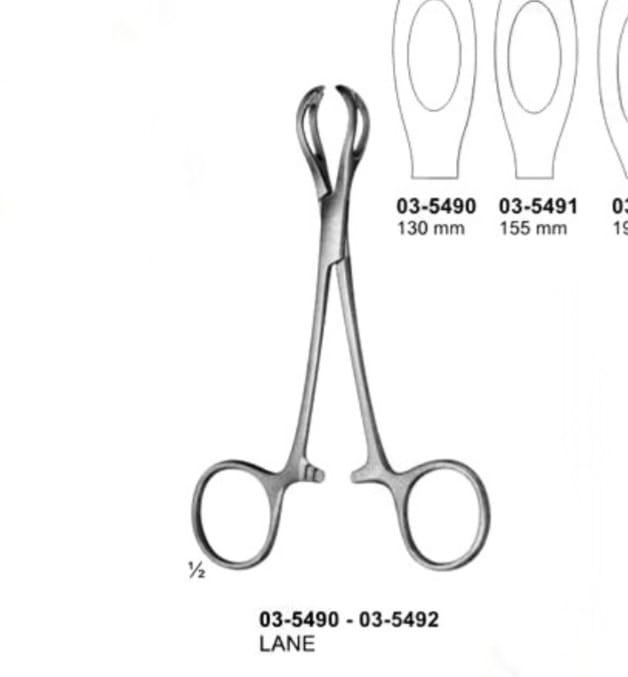Lane Tissue Forceps: (188, 76, 493, 581)
